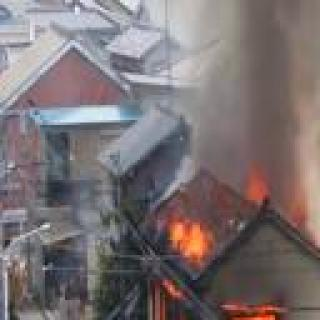fire: (141, 217, 299, 320)
